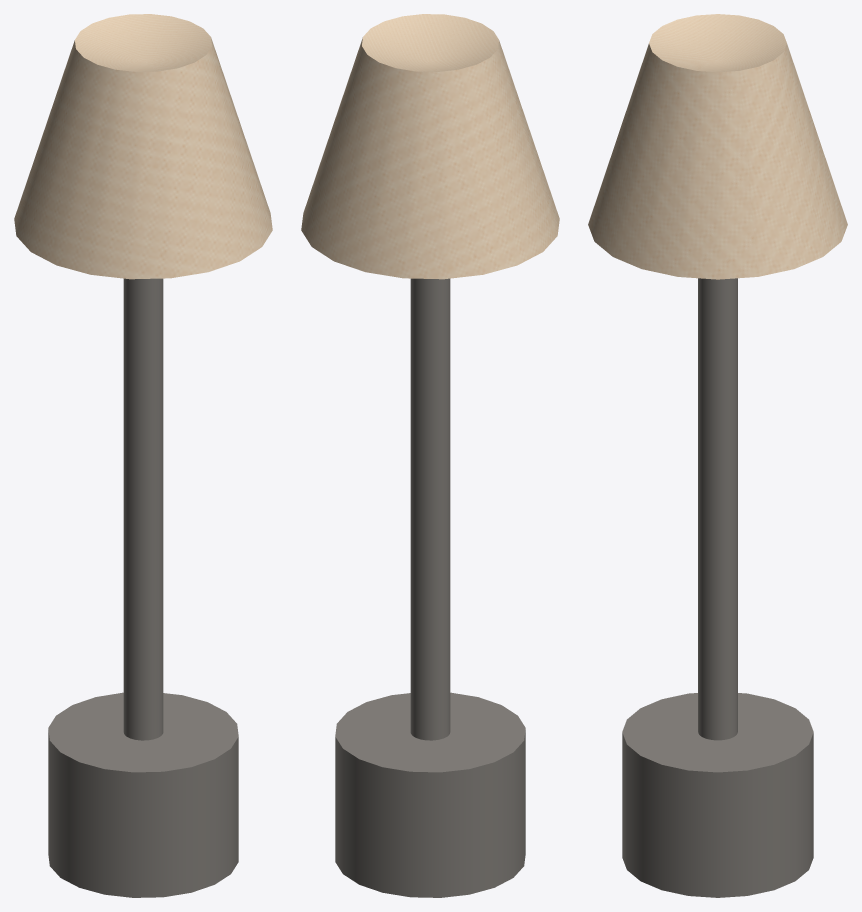
File: Lamp.fbx
3 renders of one model, left to right at view 1: azimuth 30°, elevation 25°; view 2: azimuth 150°, elevation 25°; view 3: azimuth 270°, elevation 25°, orthographic.
Parts seen in each view (by area): view 1: pCylinder12; view 2: pCylinder12; view 3: pCylinder12.
Boxes of the visible parts, left/top/right/bottom form: pCylinder12: left=14, top=14, right=272, bottom=897; pCylinder12: left=301, top=14, right=559, bottom=897; pCylinder12: left=588, top=14, right=847, bottom=897.
Bounding box in the file's own units: 5.3 × 18.33 × 5.3.
